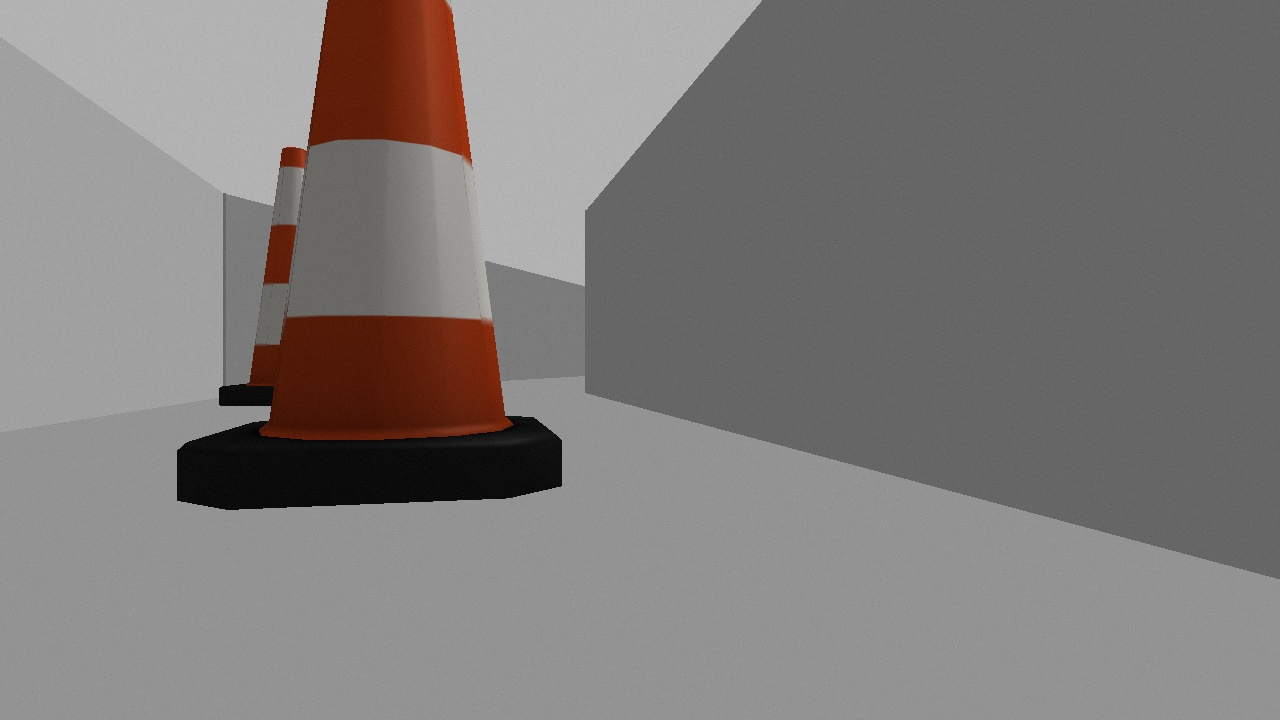barricade: (158, 1, 572, 520), (206, 142, 343, 415)
